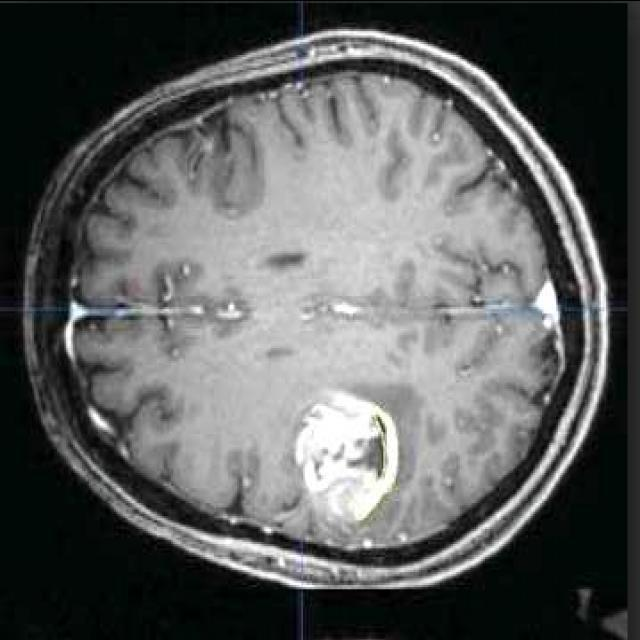tumor: (287, 386, 403, 526)
